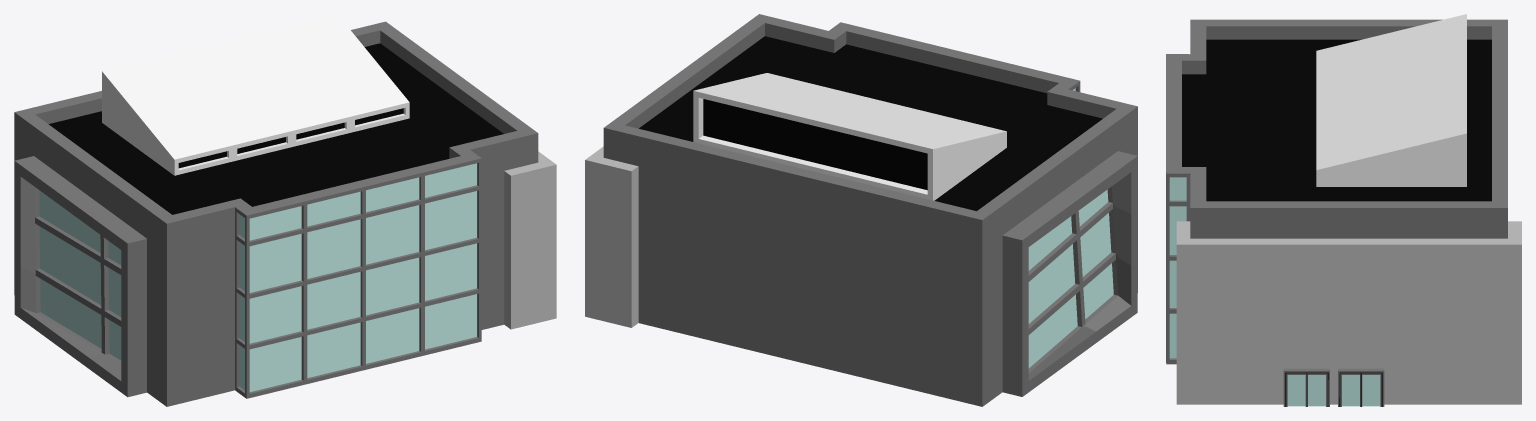
The model's file is DepartmentStore.fbx.
The picture shows the model from 3 angles, left to right: view 1: azimuth 30°, elevation 25°; view 2: azimuth 150°, elevation 25°; view 3: azimuth 270°, elevation 25°; orthographic projection. The views are drawn at different scales.
Visible parts, largest first — view 1: DepartmentStore; view 2: DepartmentStore; view 3: DepartmentStore.
Boxes of the visible parts, x1=… form: DepartmentStore: x1=14, y1=14, x2=556, y2=406; DepartmentStore: x1=585, y1=14, x2=1137, y2=406; DepartmentStore: x1=1166, y1=14, x2=1521, y2=406.
Bounding box in the file's own units: 15941 × 8297 × 11590.
